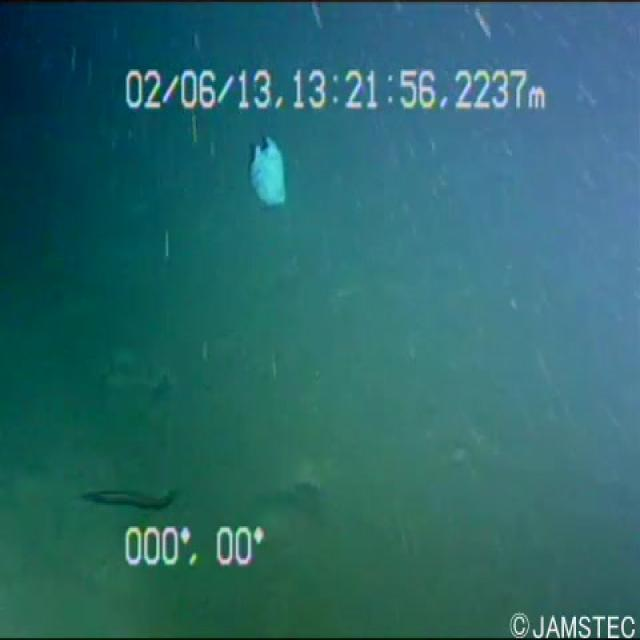plastic: (231, 119, 297, 228)
